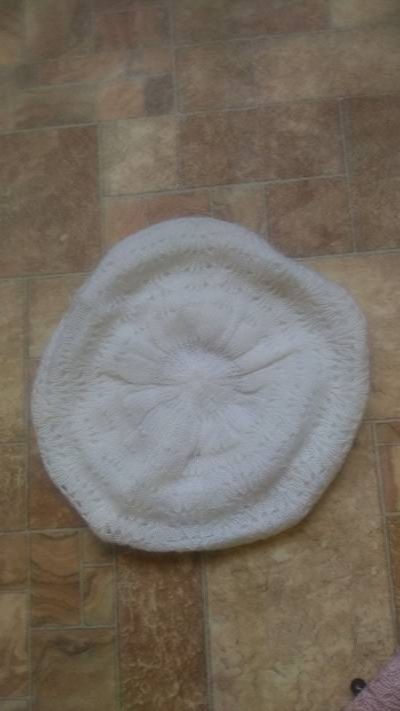Hat: (19, 180, 384, 576)
